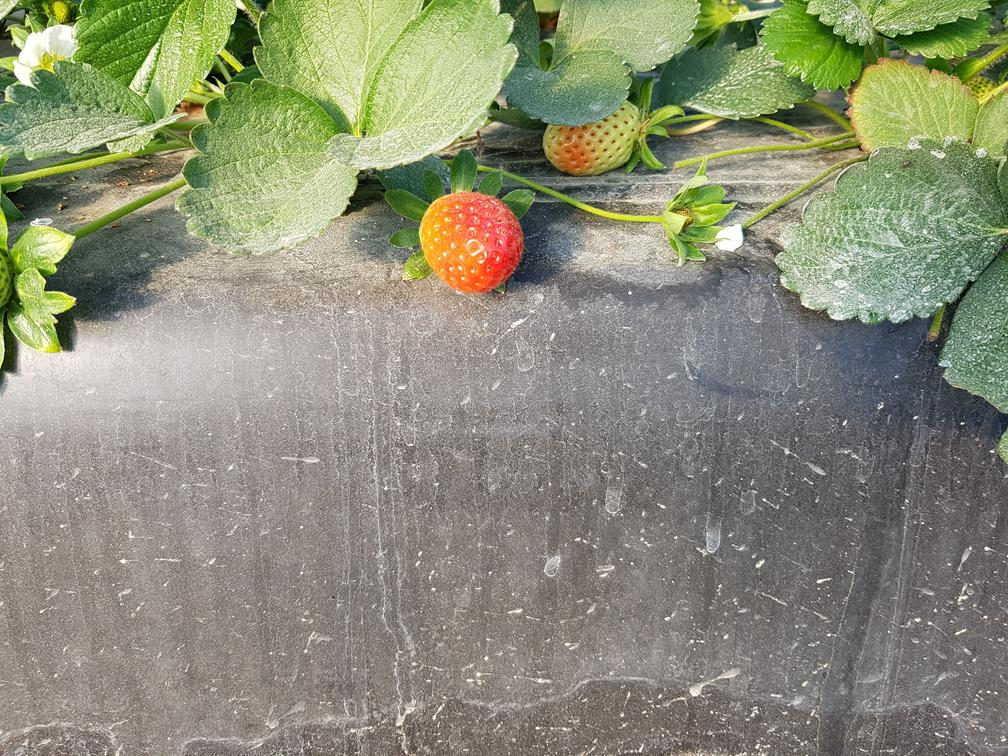Ripe: (422, 181, 526, 302)
Unripe: (544, 111, 644, 171)
